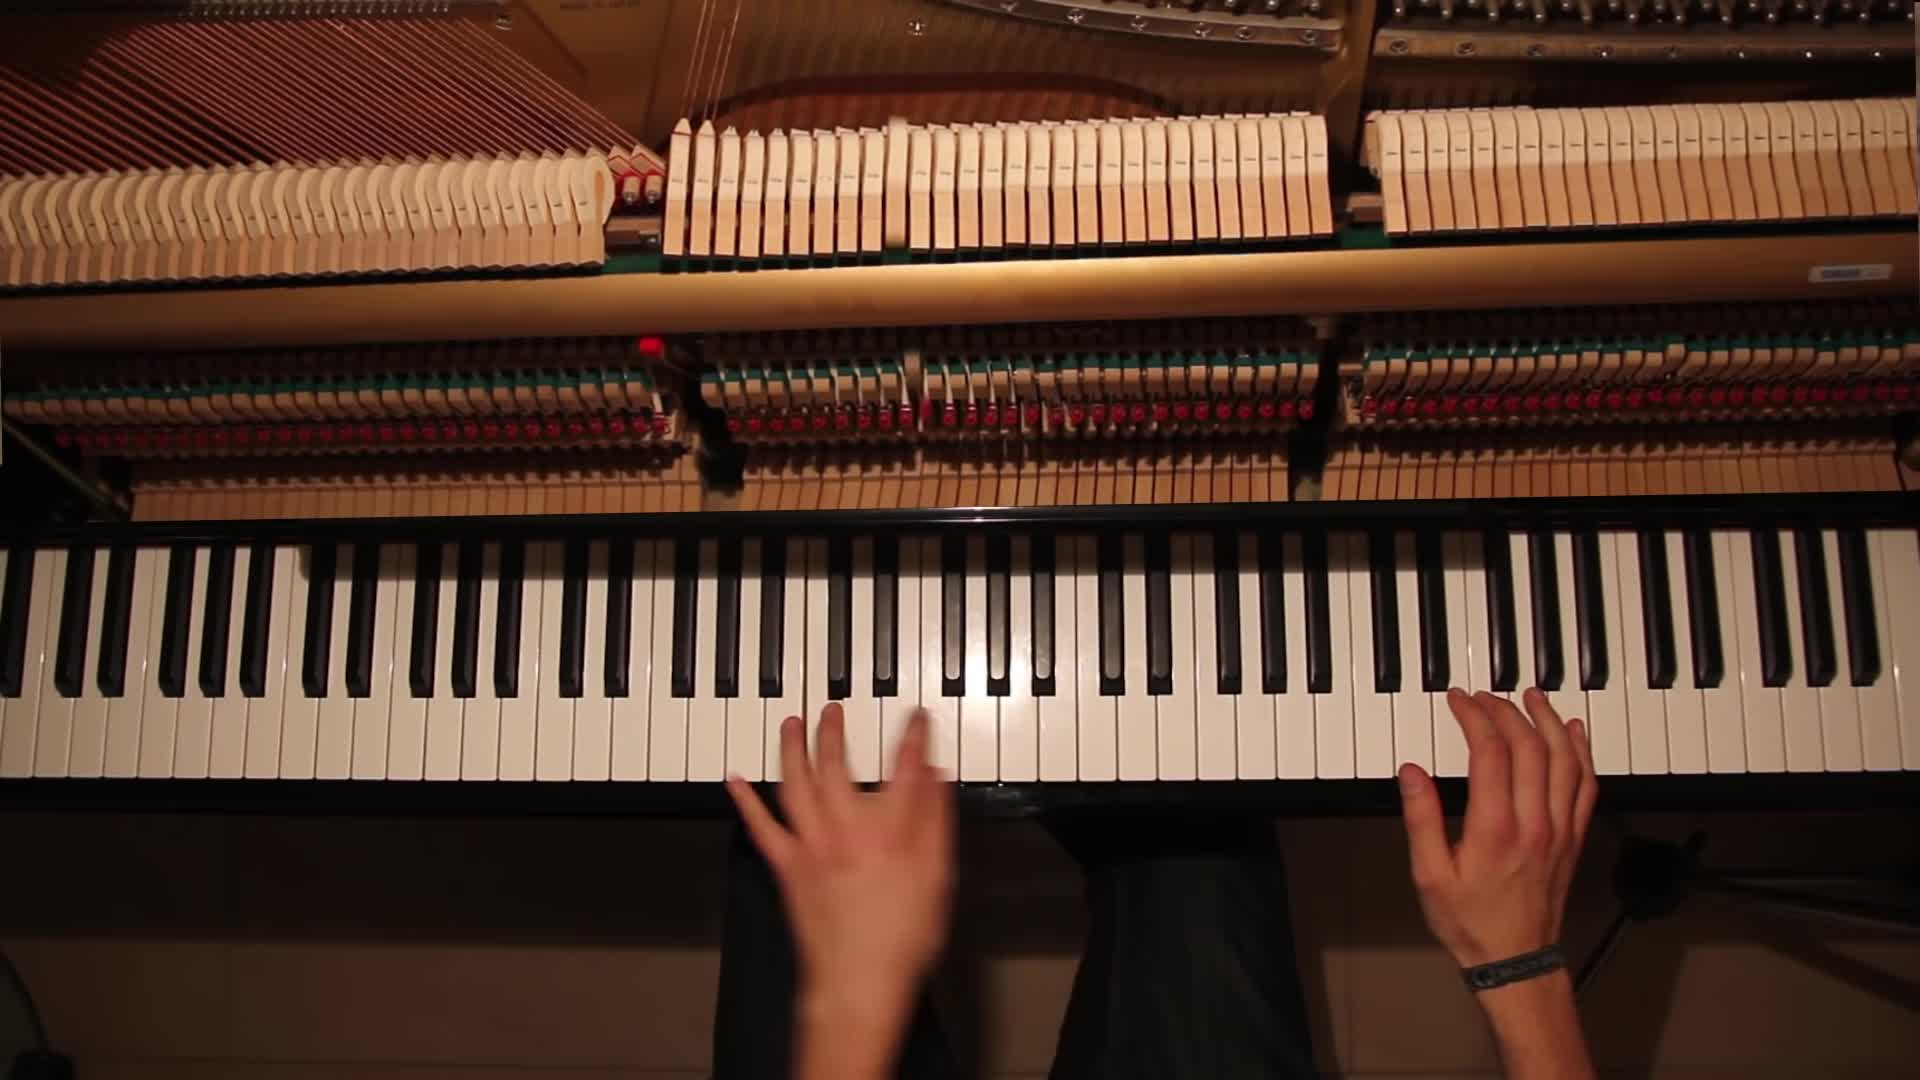left: (723, 698, 963, 992)
right: (1398, 686, 1594, 973)
